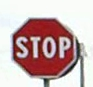stop: (12, 15, 77, 79)
